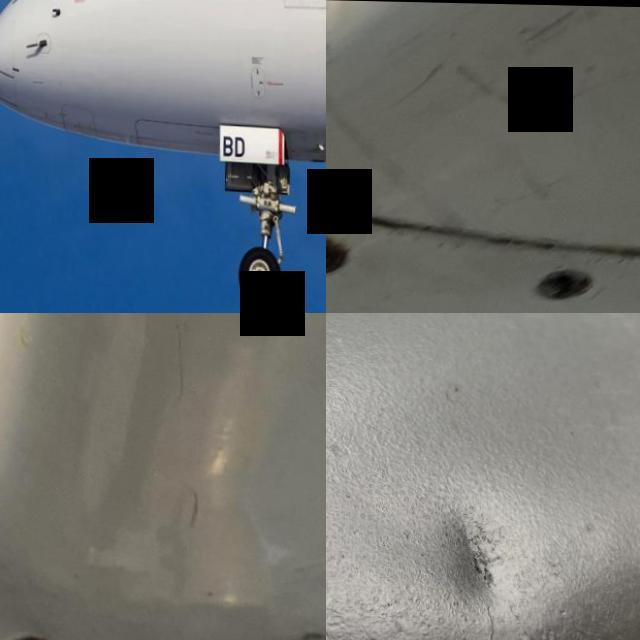Dent: (370, 469, 564, 640)
Missing_Fastener: (326, 231, 356, 276)
